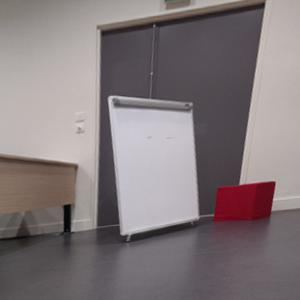big: (107, 95, 200, 235)
medium: (214, 182, 275, 221)
